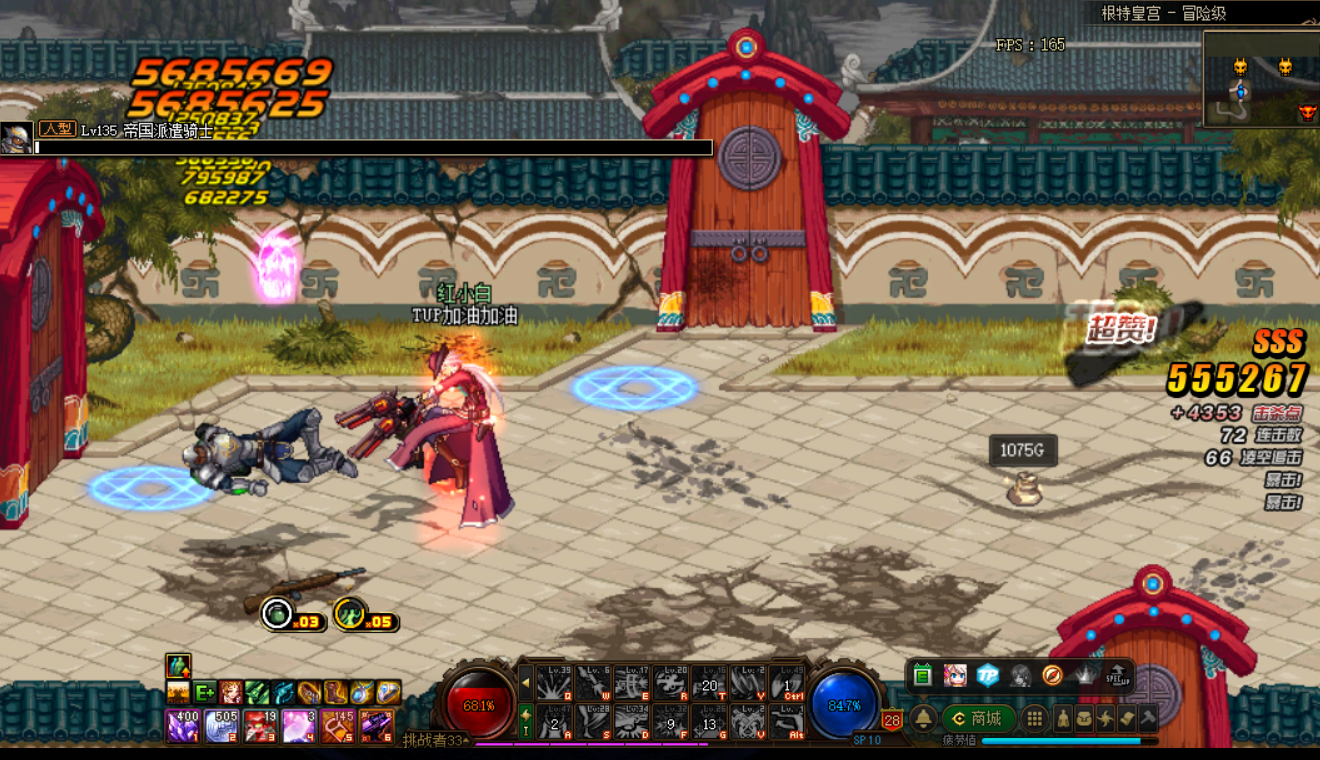monster: (172, 403, 365, 496)
warrior: (344, 331, 523, 525)
